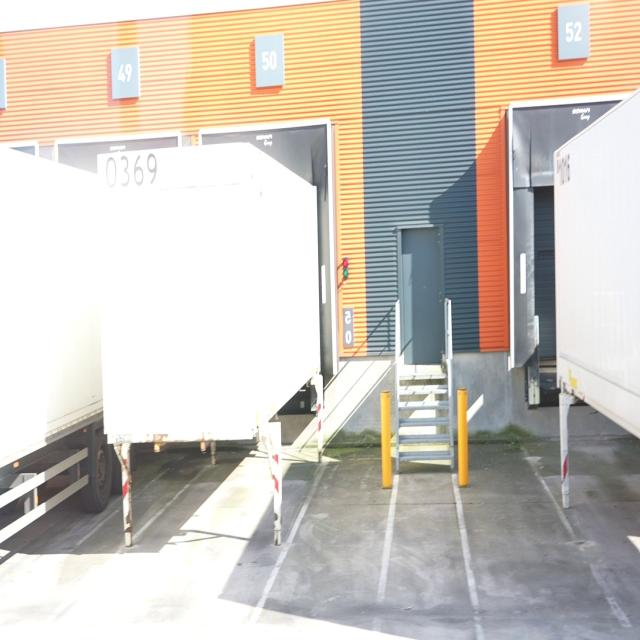Code: (103, 149, 164, 192)
